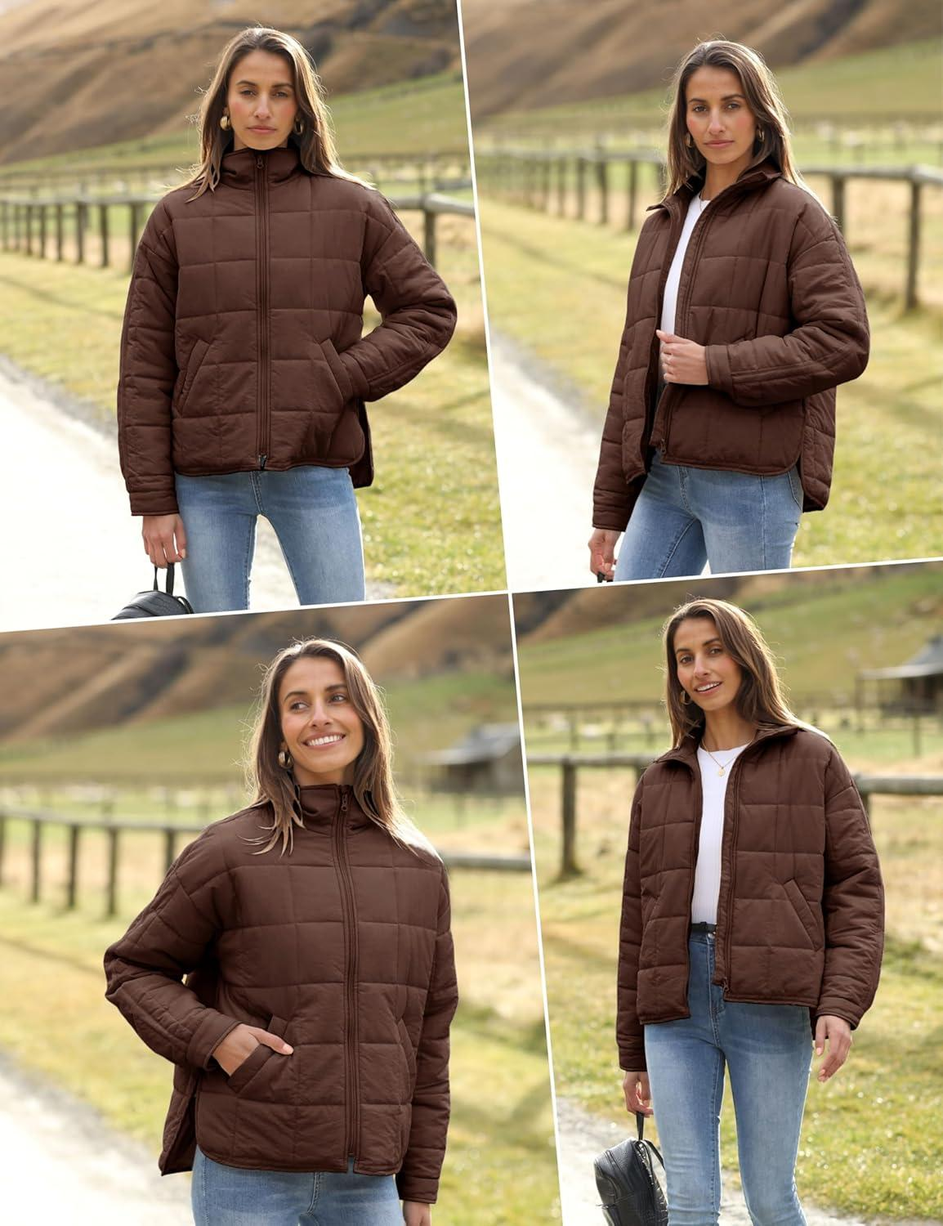coat: (97, 782, 465, 1206), (110, 141, 460, 522), (581, 165, 873, 531), (612, 723, 889, 1075)
trousers: (638, 926, 817, 1226), (165, 458, 372, 614), (605, 460, 809, 580), (188, 1148, 410, 1226)
